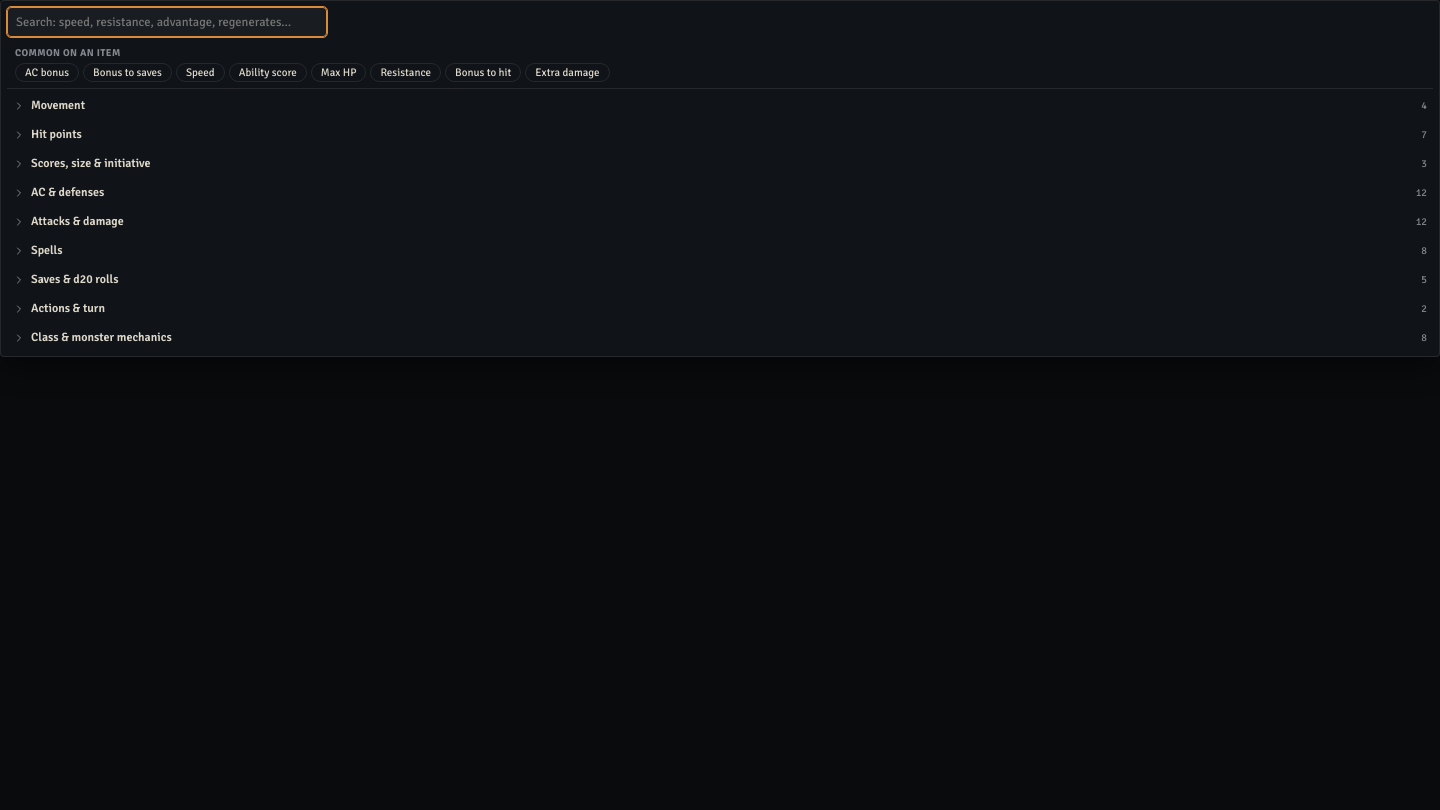
Test: the Add effect picker › opens one group at a time, its kinds with examples to start from
Click the button "AC & defenses 12": (68, 192) [7,180,1433,205]
(page scrolled)
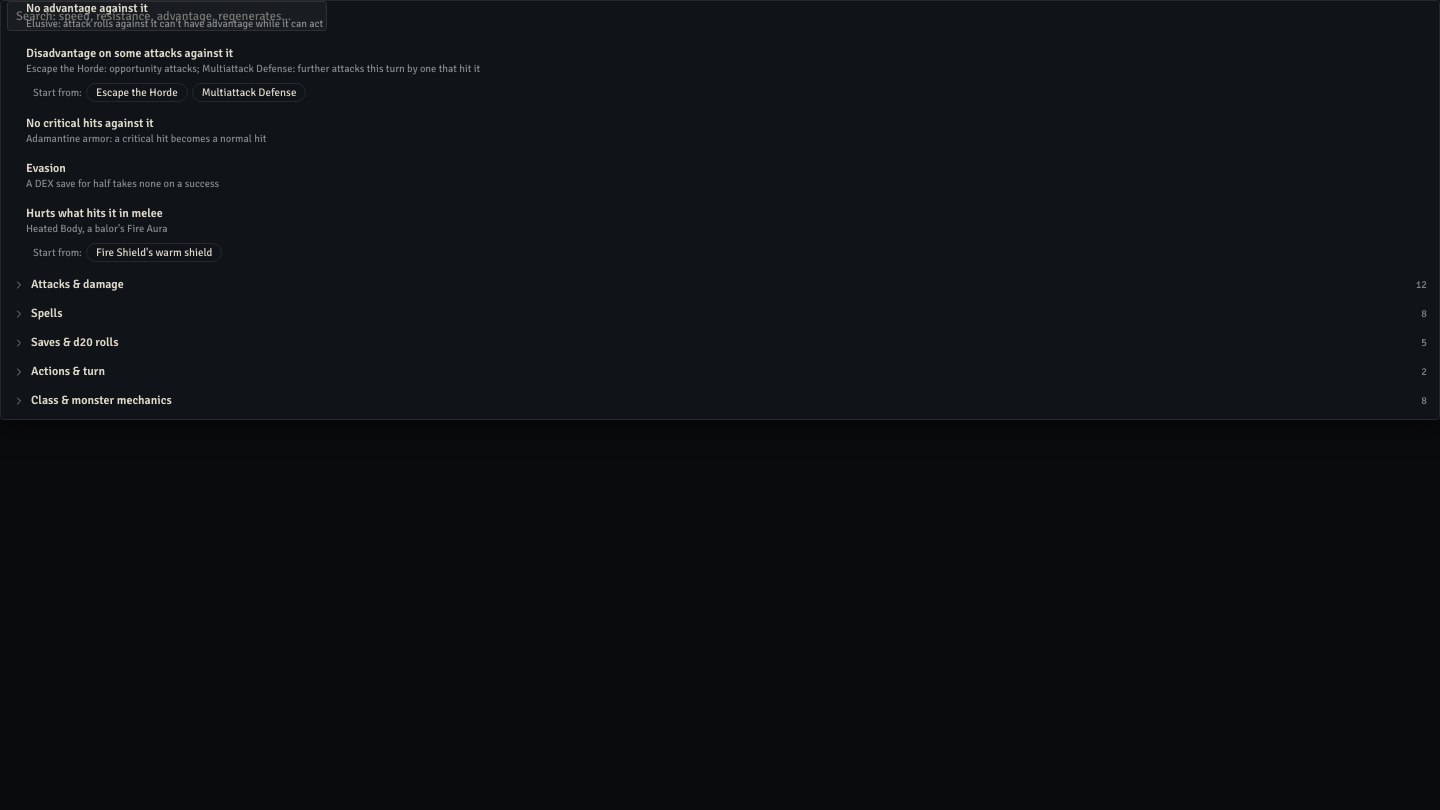
Click the button "Spells 8": (47, 314) [7,301,1433,326]
(page scrolled)
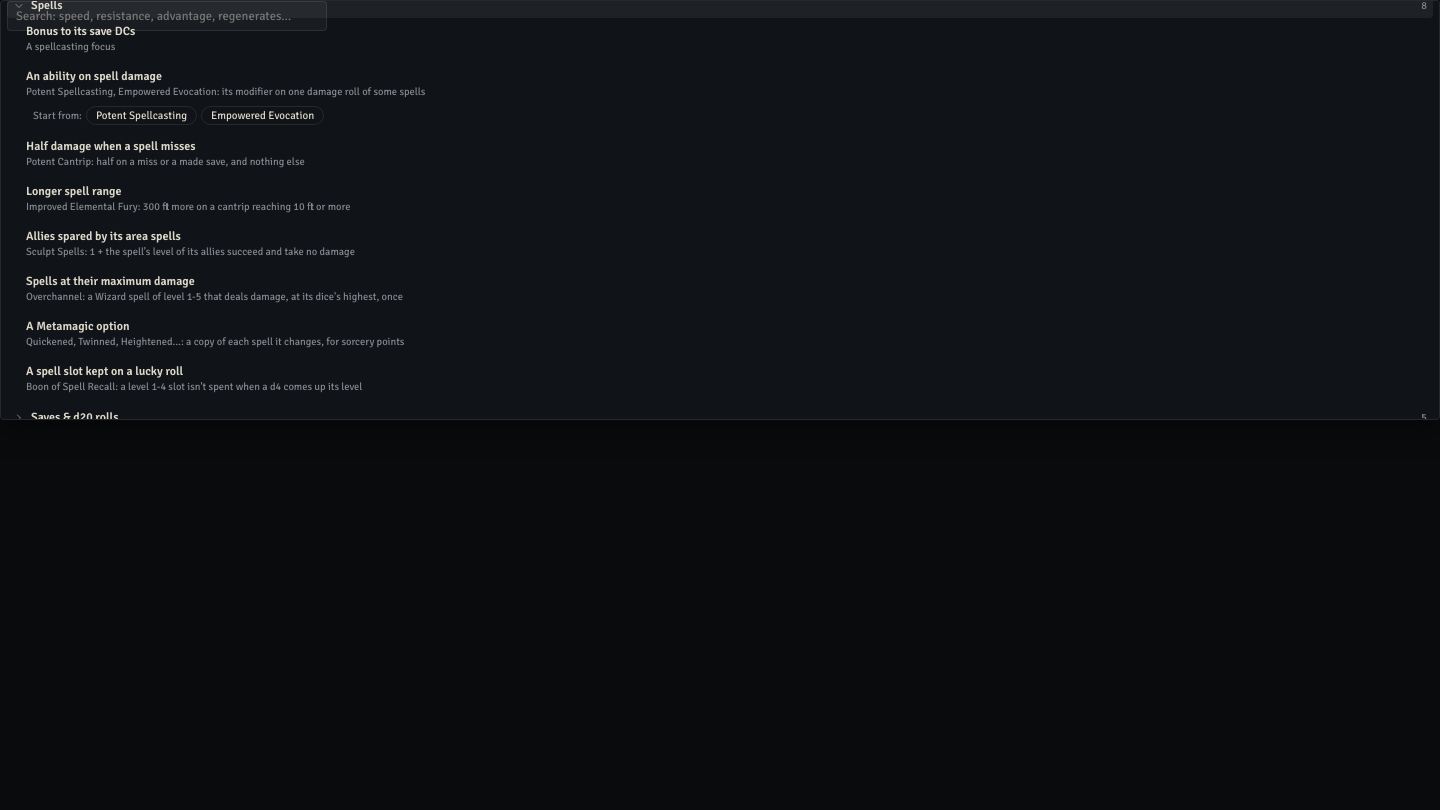
expect the button "AC & defenses" is not shown: met
expect the element named "Spells" is shown: met, box [7,18,1433,401]
